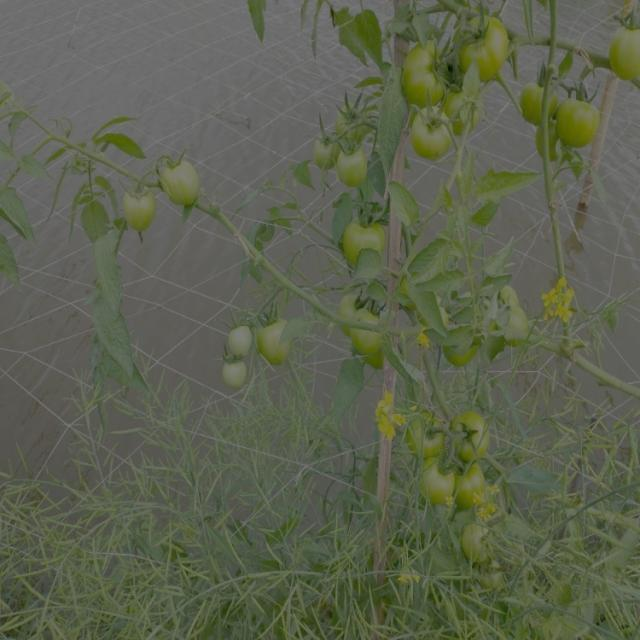tomato: (455, 7, 513, 85), (338, 203, 396, 267), (410, 100, 461, 164), (157, 146, 207, 211), (398, 38, 446, 101), (560, 88, 608, 150), (253, 310, 298, 364), (518, 69, 563, 122), (409, 408, 453, 462), (607, 14, 640, 85), (450, 409, 495, 459), (121, 178, 161, 234), (463, 464, 508, 512), (499, 288, 535, 347), (414, 463, 460, 508), (459, 522, 504, 565), (338, 141, 379, 187), (448, 86, 482, 131), (335, 279, 371, 319), (351, 319, 387, 358), (447, 326, 481, 365), (339, 98, 375, 134), (219, 357, 254, 392), (313, 129, 340, 172), (226, 324, 258, 358)
